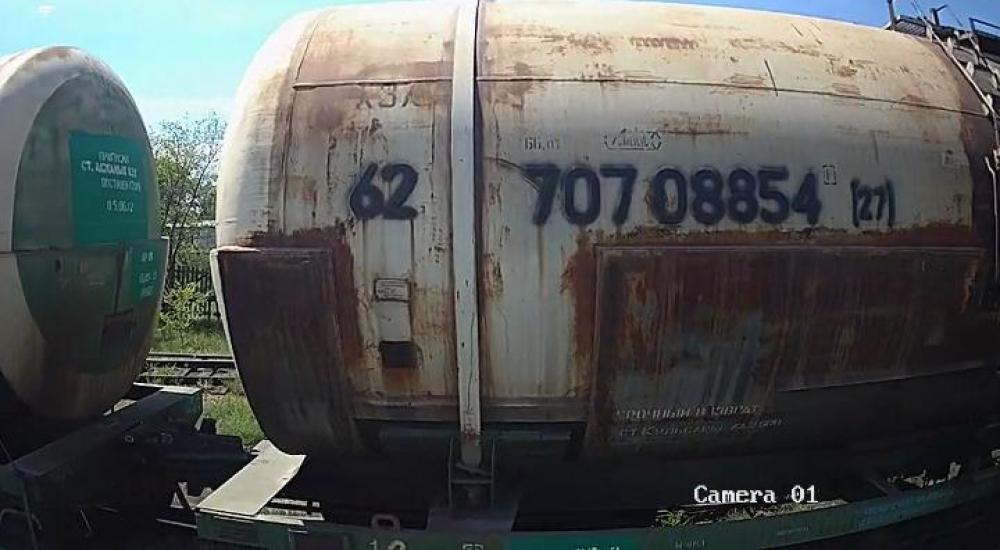Wagon-number: (519, 162, 826, 227)
